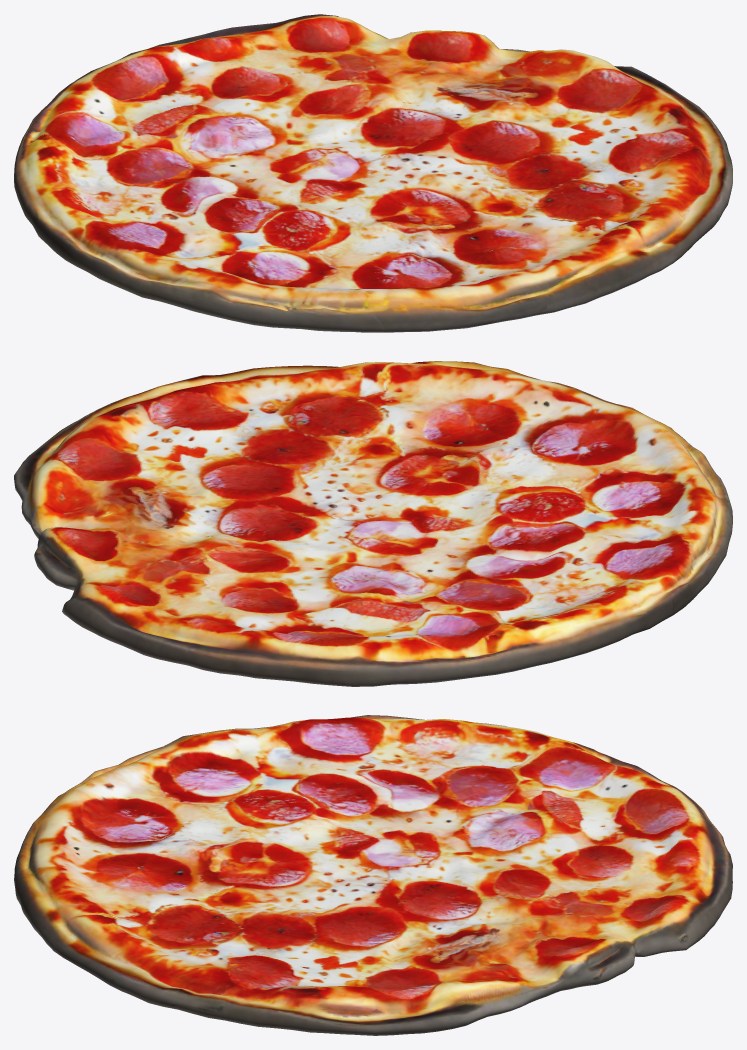
Rendered from pepperonitest.glb.
3 renders of one model, top to bottom at view 1: azimuth 30°, elevation 25°; view 2: azimuth 150°, elevation 25°; view 3: azimuth 270°, elevation 25°, orthographic. The views are drawn at different scales.
Size of the model in its own units: 2 by 0.1035 by 1.99.
1 material, 1 textured.
